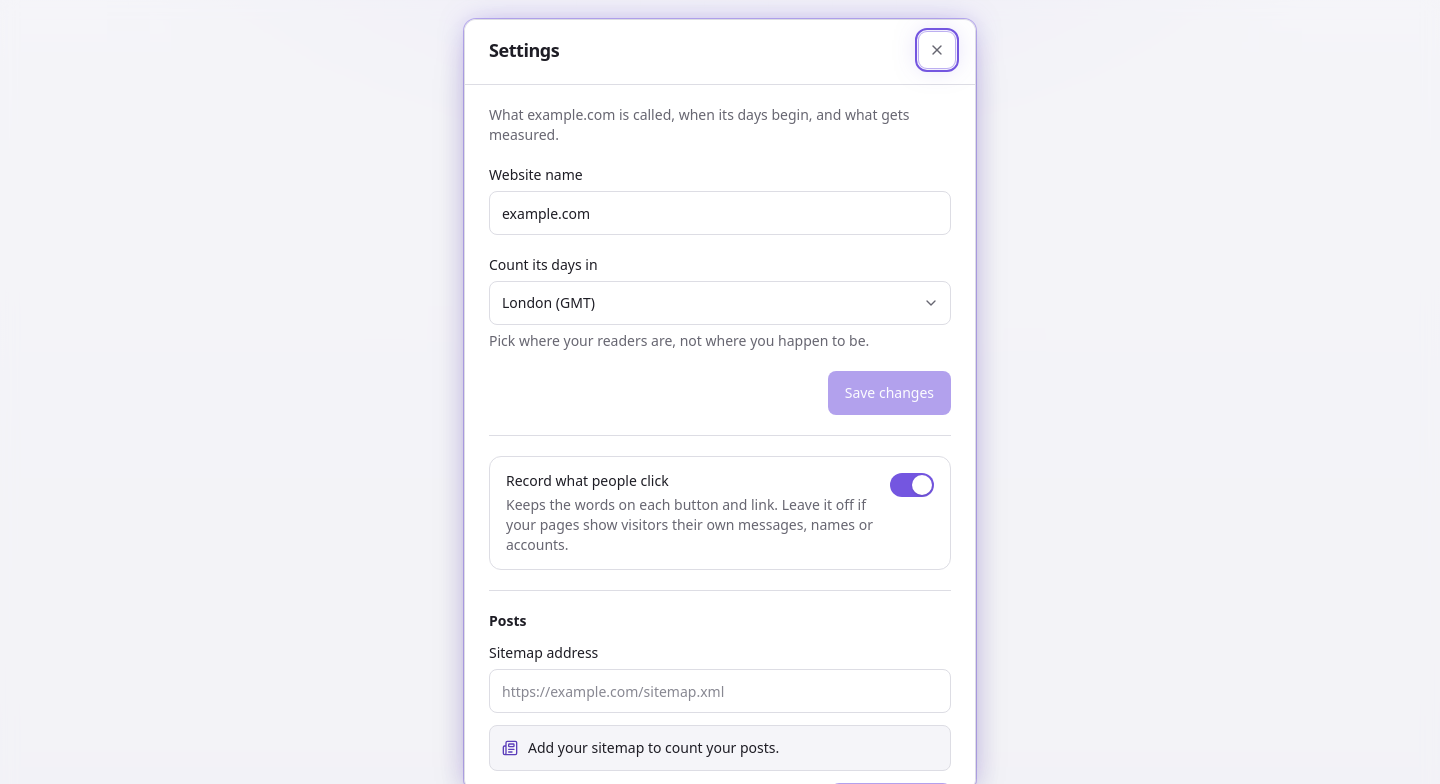
Scenario: what a website is called and when its days begin › offers nothing more to save once what was typed is what is stored
Replace the text in the field labelled "Website name" with "Reader Weekly". click: {"x": 720, "y": 213}
box: 489,191 -> 951,235
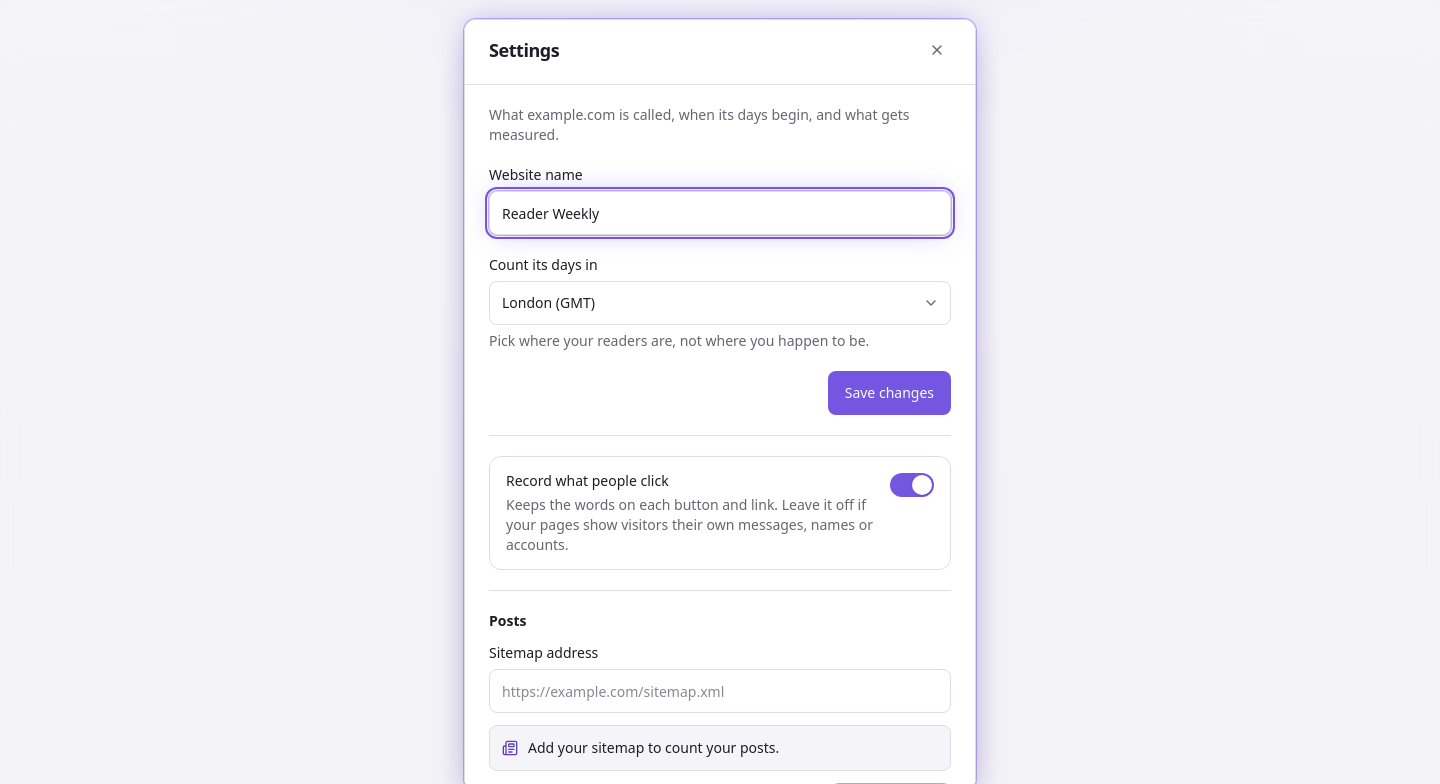
Click the button "Save changes". click: {"x": 889, "y": 393}
box: 828,371 -> 951,415
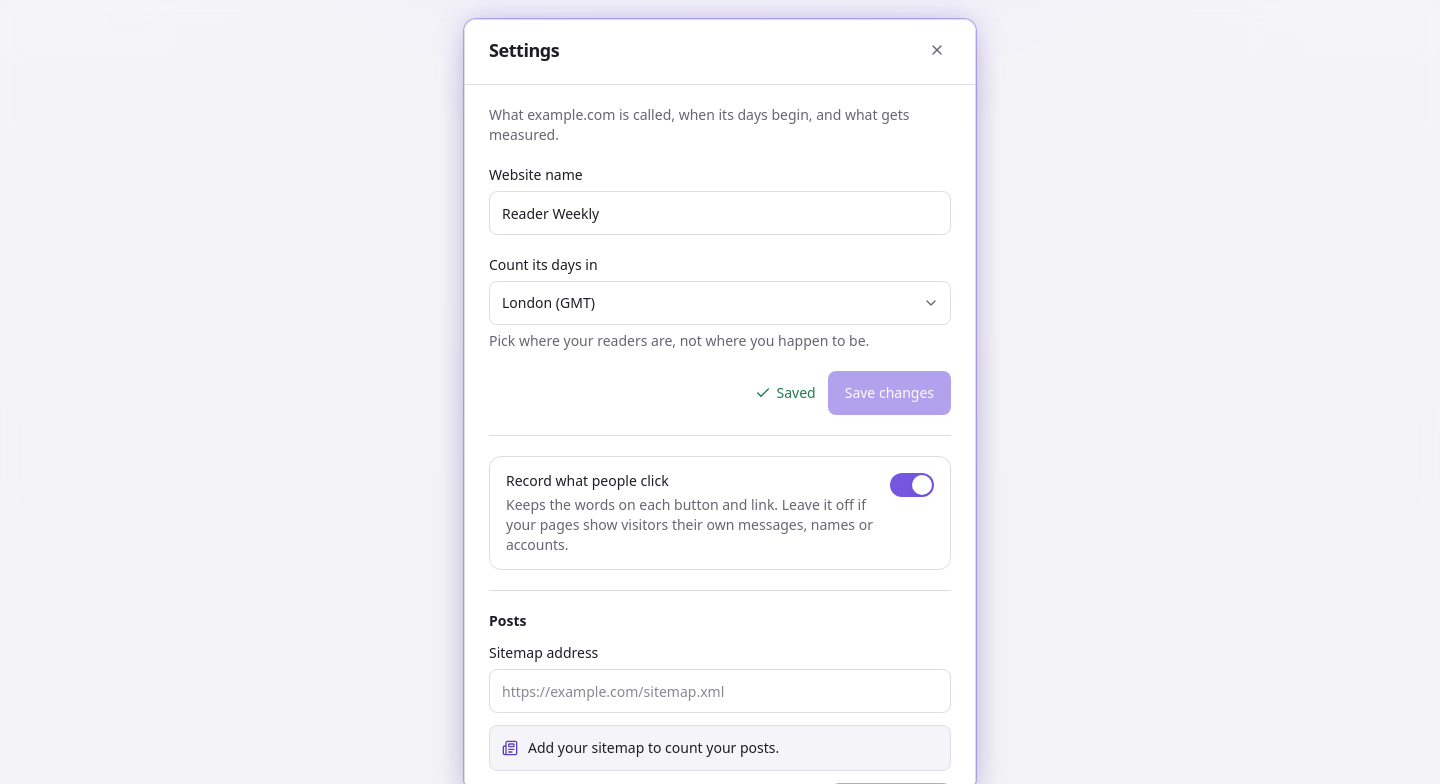
expect the button "Save changes" is disabled: met, box 828,371 -> 951,415
